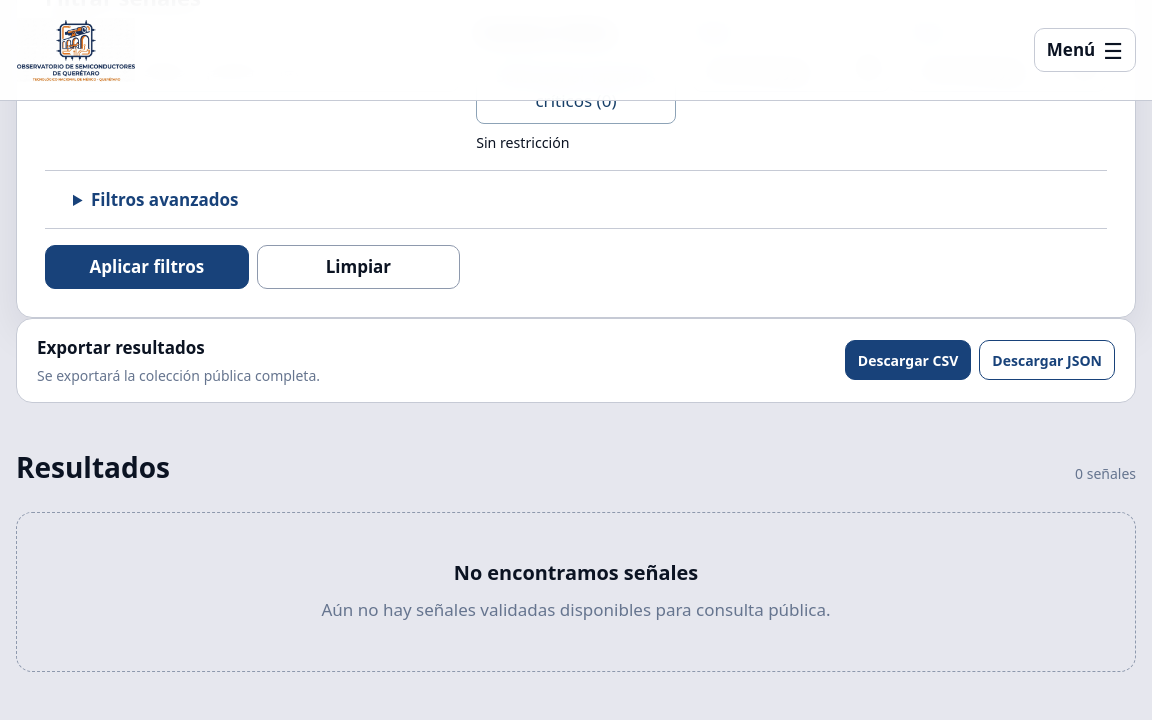
it: acciones públicas de exportación › presenta una recomendación accionable si se supera el límite
(page scrolled)
Click the button "Descargar JSON": (1047, 360) [979,340,1115,380]
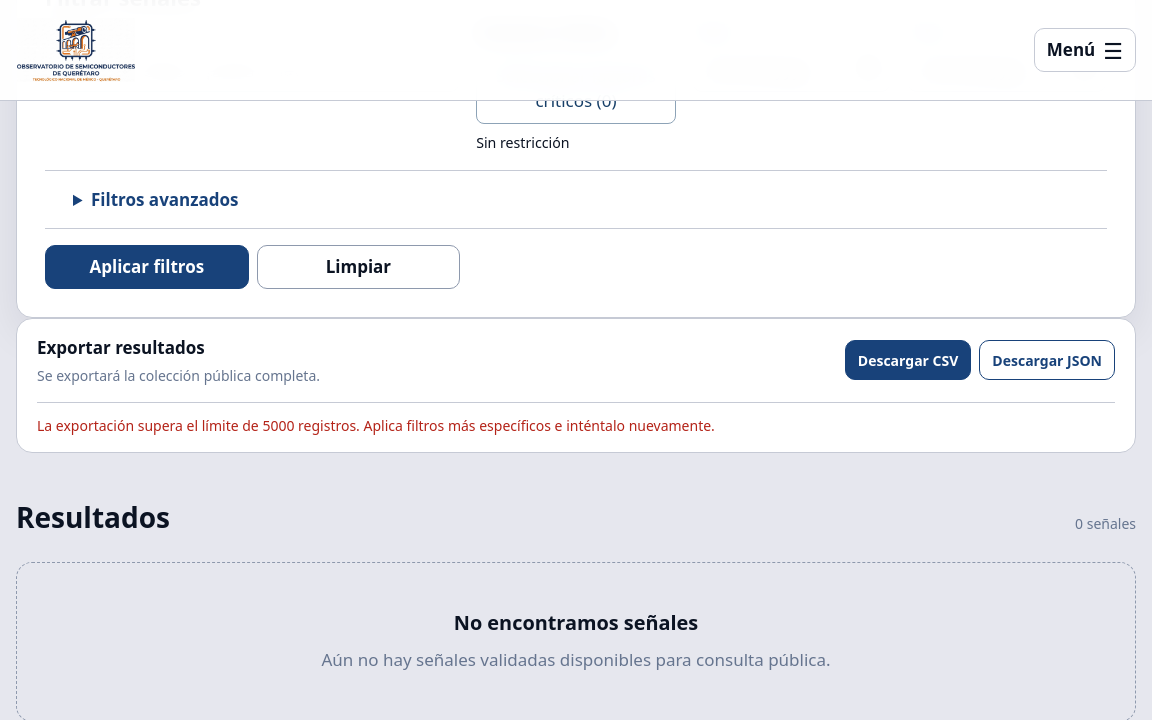
Expected: the message shows "filtros más específicos", [37,416,715,435]
